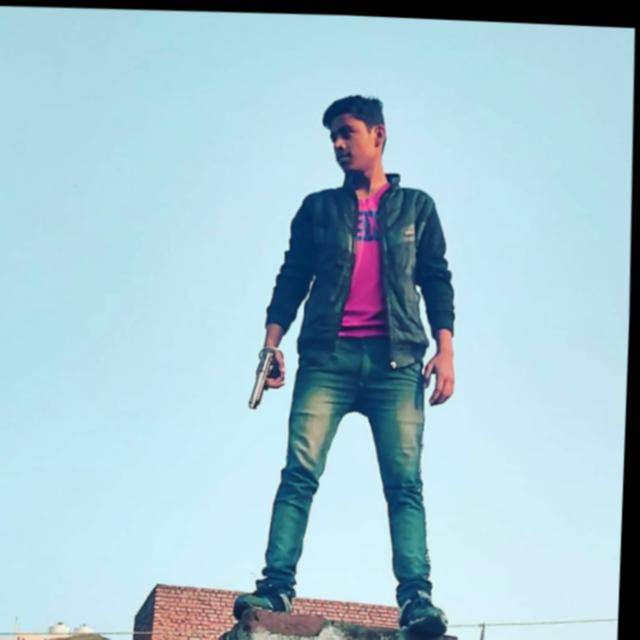weapon: (244, 340, 292, 410)
